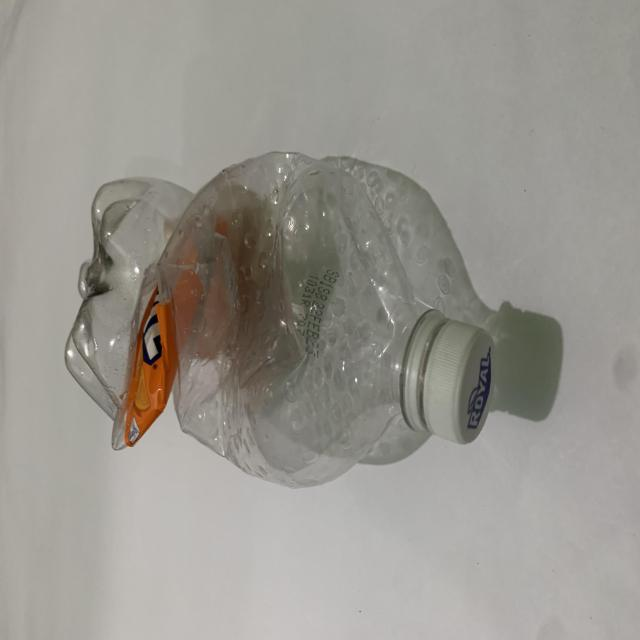bottle: (58, 60, 500, 497)
